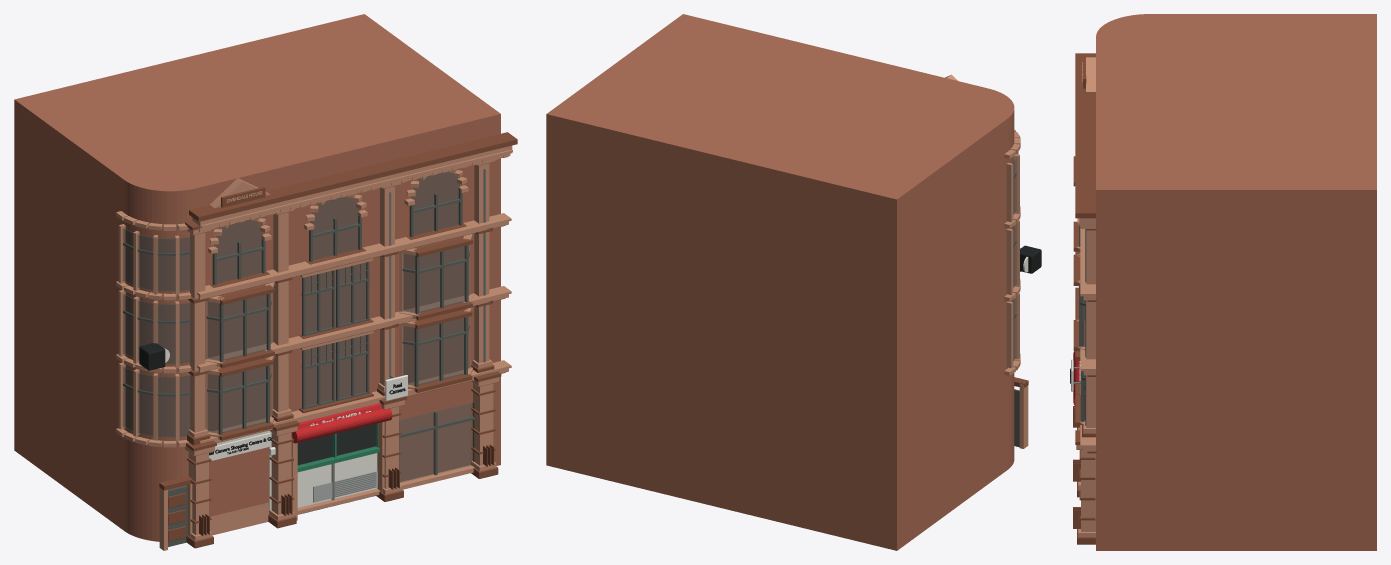
The model's file is real_camera.glb.
3 renders of one model, left to right at view 1: azimuth 30°, elevation 25°; view 2: azimuth 150°, elevation 25°; view 3: azimuth 270°, elevation 25°, orthographic. The views are drawn at different scales.
Parts seen in each view (by area): view 1: RC_MainBuildingMass, RC_LeverStreetReturnMass, RC_QuarterRoundCorner, RC_CorniceCap, RC_AdjacentWindow, RC_UpperPier_0_Shaft, RC_UpperPier_1_Shaft, RC_UpperPier_3_Shaft, RC_UpperPier_2_Shaft, RC_Floor1_AdjacentBay_FrontGlass, RC_Floor2_AdjacentBay_FrontGlass, RC_Floor1_GalleryBay_FrontGlass (+44 smaller); view 2: RC_MainBuildingMass, RC_LeverStreetReturnMass, RC_QuarterRoundCorner, RC_SecondaryDoorJamb_L; view 3: RC_MainBuildingMass, RC_LeverStreetReturnMass, RC_CorniceCap, RC_UpperPier_3_Shaft, RC_GroundPilaster_3_Shaft, RC_QuarterRoundCorner, RC_StringCourse_2_Lip.
Boxes of the visible parts, box(x1,y1,x2,y2) form: RC_MainBuildingMass: box(60, 14, 500, 535); RC_LeverStreetReturnMass: box(14, 88, 169, 530); RC_QuarterRoundCorner: box(124, 169, 196, 541); RC_CorniceCap: box(189, 132, 517, 221); RC_AdjacentWindow: box(399, 403, 471, 482); RC_UpperPier_0_Shaft: box(190, 232, 205, 432); RC_UpperPier_1_Shaft: box(273, 212, 288, 412); RC_UpperPier_3_Shaft: box(474, 163, 489, 363); RC_UpperPier_2_Shaft: box(380, 186, 394, 386); RC_Floor1_AdjacentBay_FrontGlass: box(418, 318, 464, 385); RC_Floor2_AdjacentBay_FrontGlass: box(419, 246, 465, 312); RC_Floor1_GalleryBay_FrontGlass: box(222, 366, 266, 432); RC_MainBuildingMass: box(546, 14, 987, 539); RC_LeverStreetReturnMass: box(851, 107, 1007, 550); RC_QuarterRoundCorner: box(962, 88, 1014, 469); RC_SecondaryDoorJamb_L: box(1019, 384, 1028, 448); RC_MainBuildingMass: box(1096, 37, 1376, 550); RC_LeverStreetReturnMass: box(1150, 14, 1376, 36); RC_CorniceCap: box(1075, 53, 1095, 218); RC_UpperPier_3_Shaft: box(1086, 230, 1095, 427); RC_GroundPilaster_3_Shaft: box(1081, 450, 1095, 531); RC_QuarterRoundCorner: box(1096, 14, 1149, 36); RC_StringCourse_2_Lip: box(1080, 228, 1095, 296).
Bounding box in the file's own units: 15.93 × 14.76 × 11.36.
